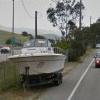Boat: (11, 34, 72, 93)
